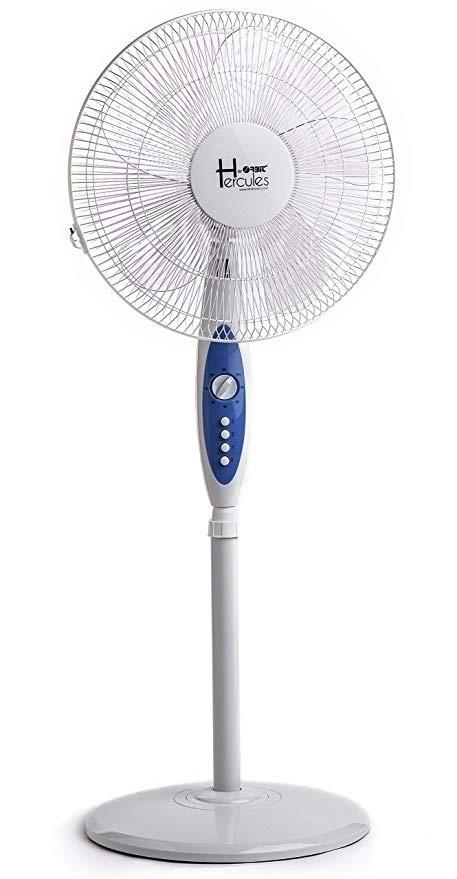fan: (56, 0, 405, 865)
